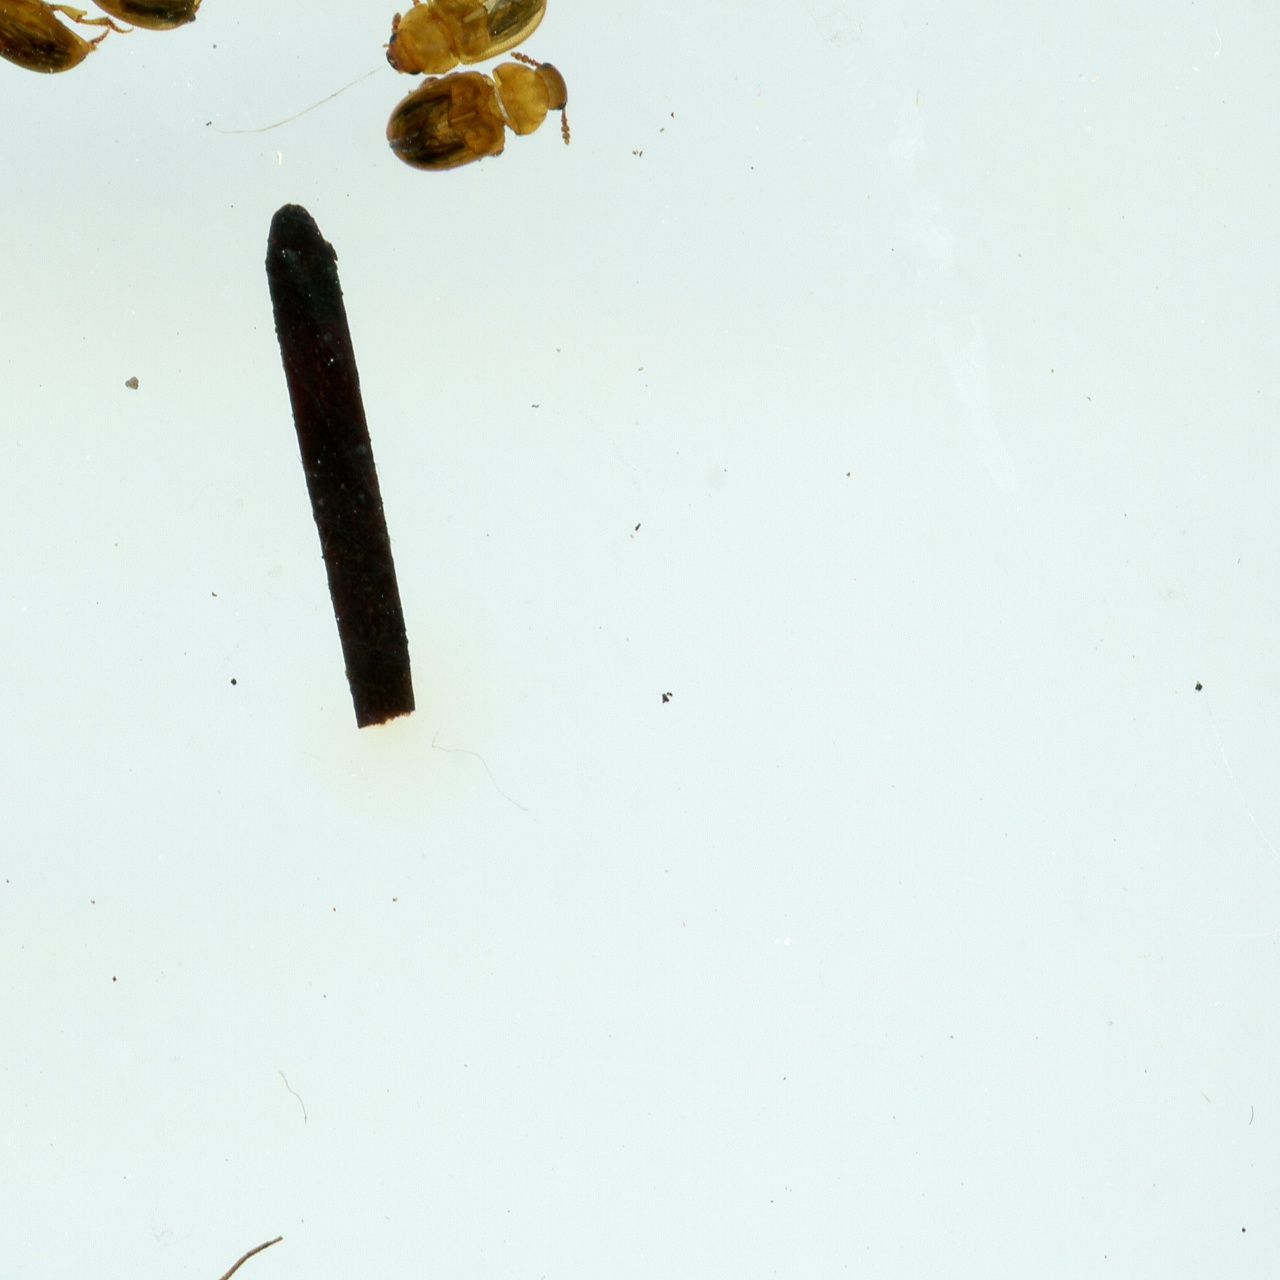arthropod: (388, 63, 574, 171), (382, 0, 535, 86), (0, 0, 74, 97), (61, 0, 238, 25)
